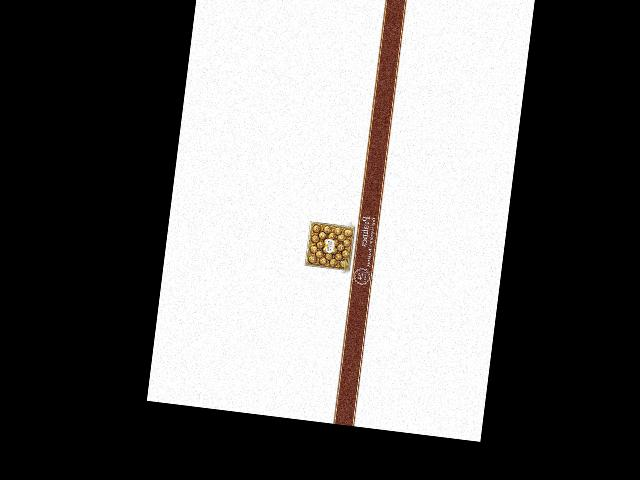chocolate: (301, 219, 357, 274)
